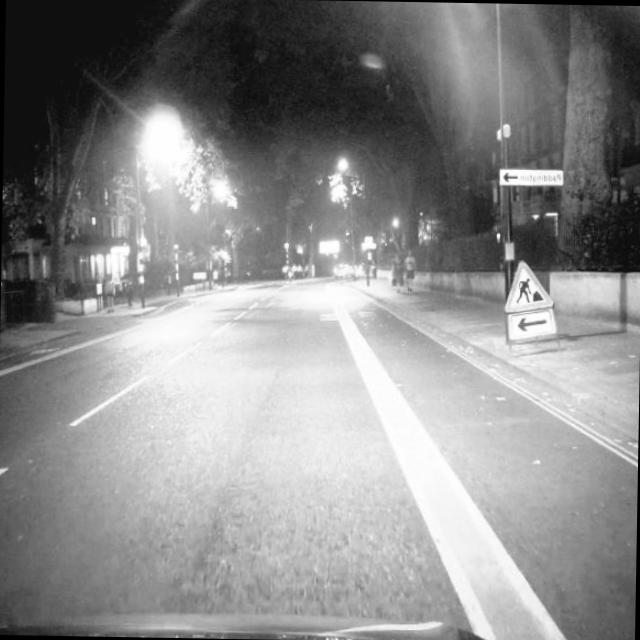Sign: (504, 258, 553, 314), (506, 308, 556, 340), (500, 169, 562, 187), (504, 242, 514, 259)
